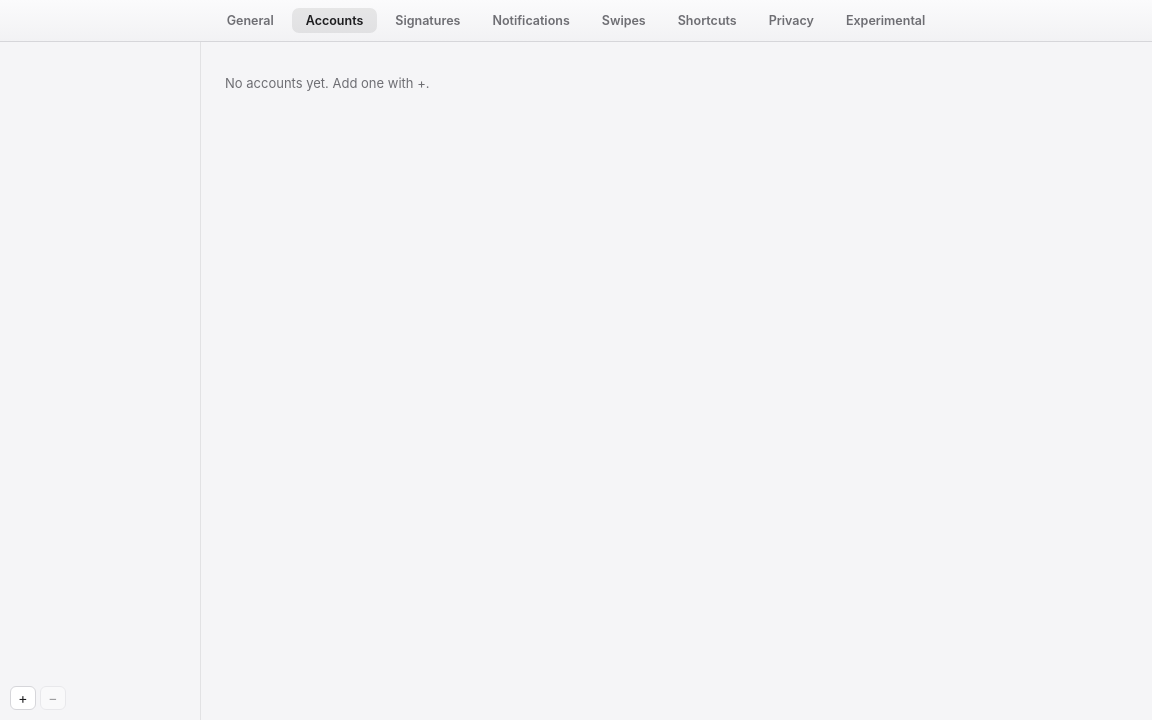
Test: shows sender avatar lookups switched off by default
Click the button "Privacy" at (791, 20), box [755,8,828,33]
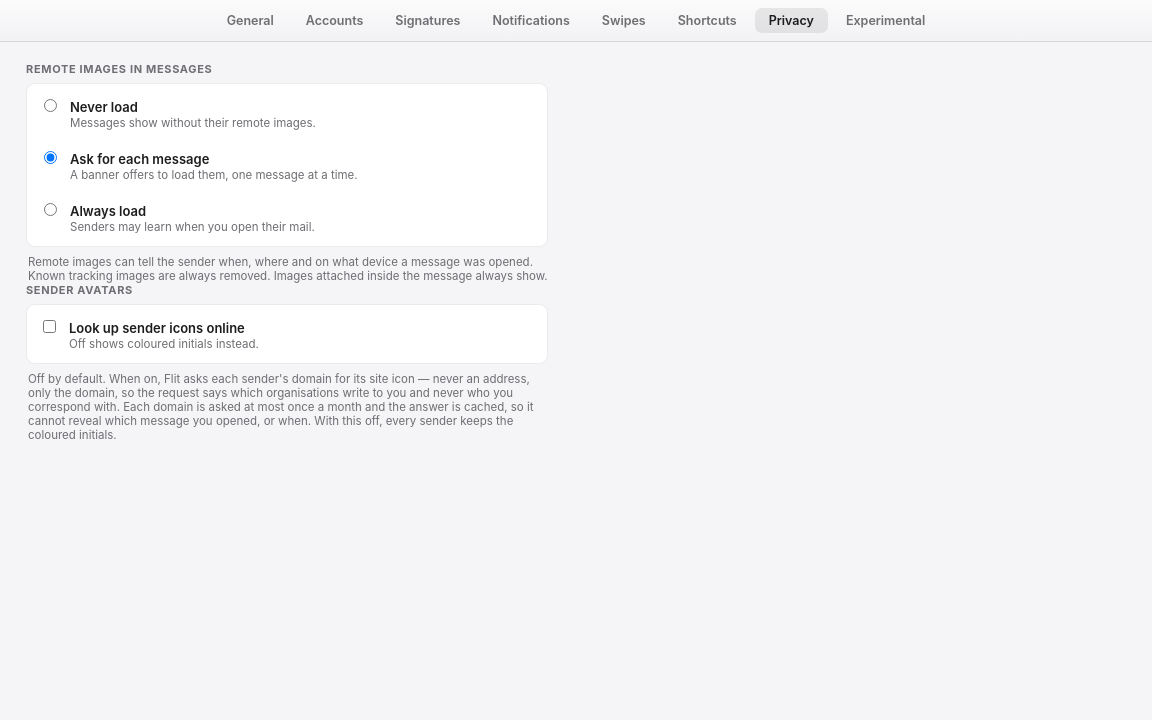
expect the checkbox labelled "Look up sender icons online" is not checked: met, box [43,320,56,333]
